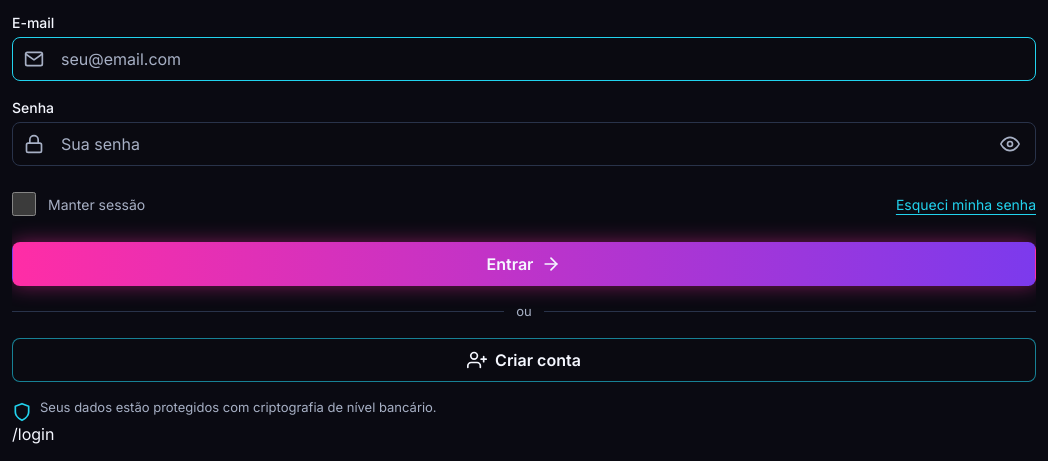
Test: LoginForm (AUTH-001) › CA-001: envia as credenciais normalizadas e segue para o destino autorizado
Type "  ana@exemplo.com " into the field labelled "E-mail".
click(524, 59); type("  ana@exemplo.com ")  # box top-left (12, 37), bottom-right (1036, 81)
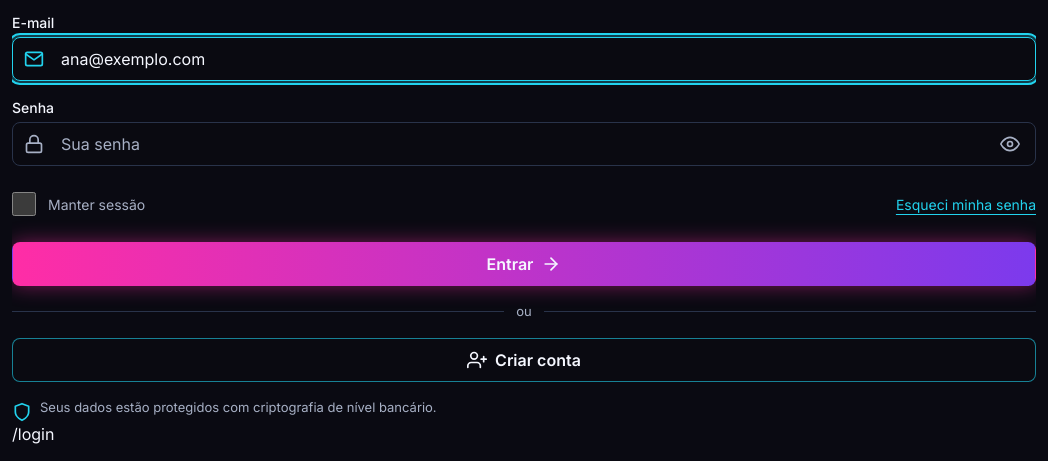
Type "minha senha" into the password field labelled "Senha".
click(524, 144); type("minha senha")  # box top-left (12, 122), bottom-right (1036, 166)
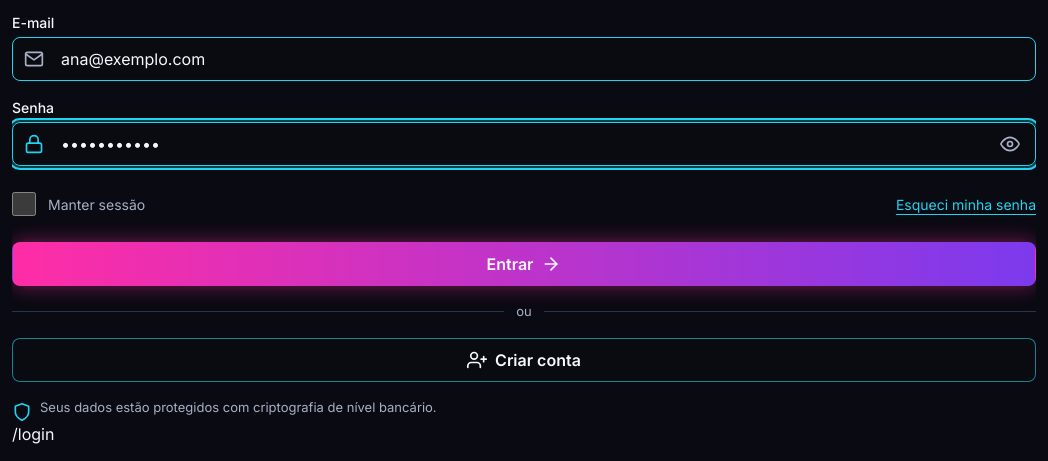
Click the checkbox labelled "Manter sessão".
click(24, 204)  # box top-left (12, 192), bottom-right (36, 216)
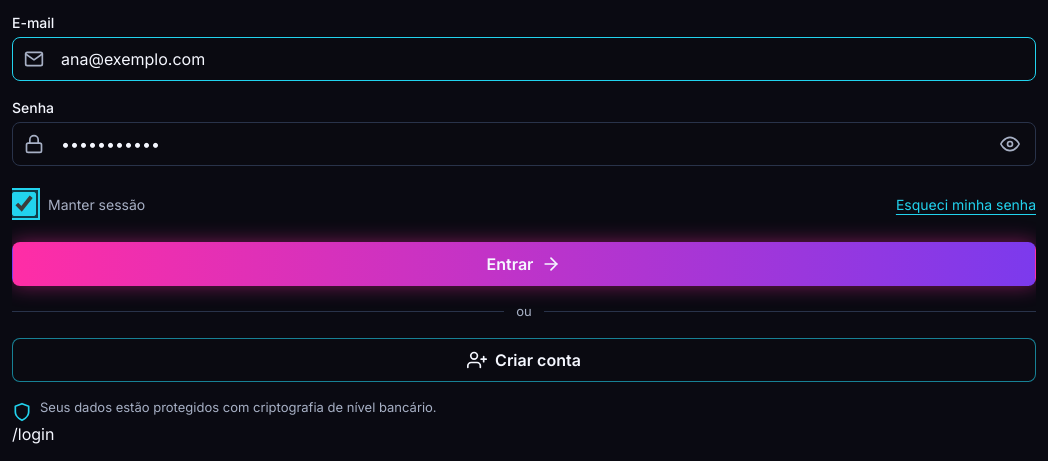
Click the button "Entrar".
click(524, 264)  # box top-left (12, 242), bottom-right (1036, 286)
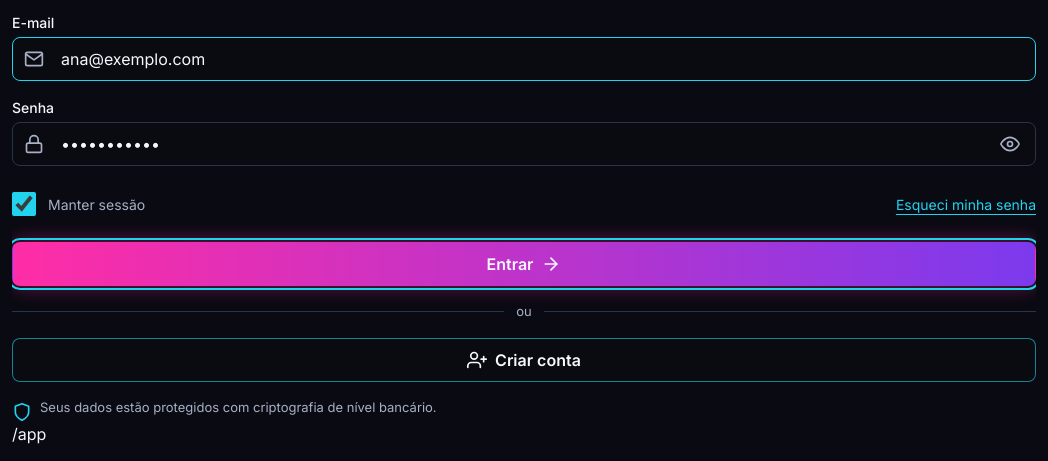
expect the text with test id "location" reads "/app": met, box top-left (12, 424), bottom-right (46, 444)
